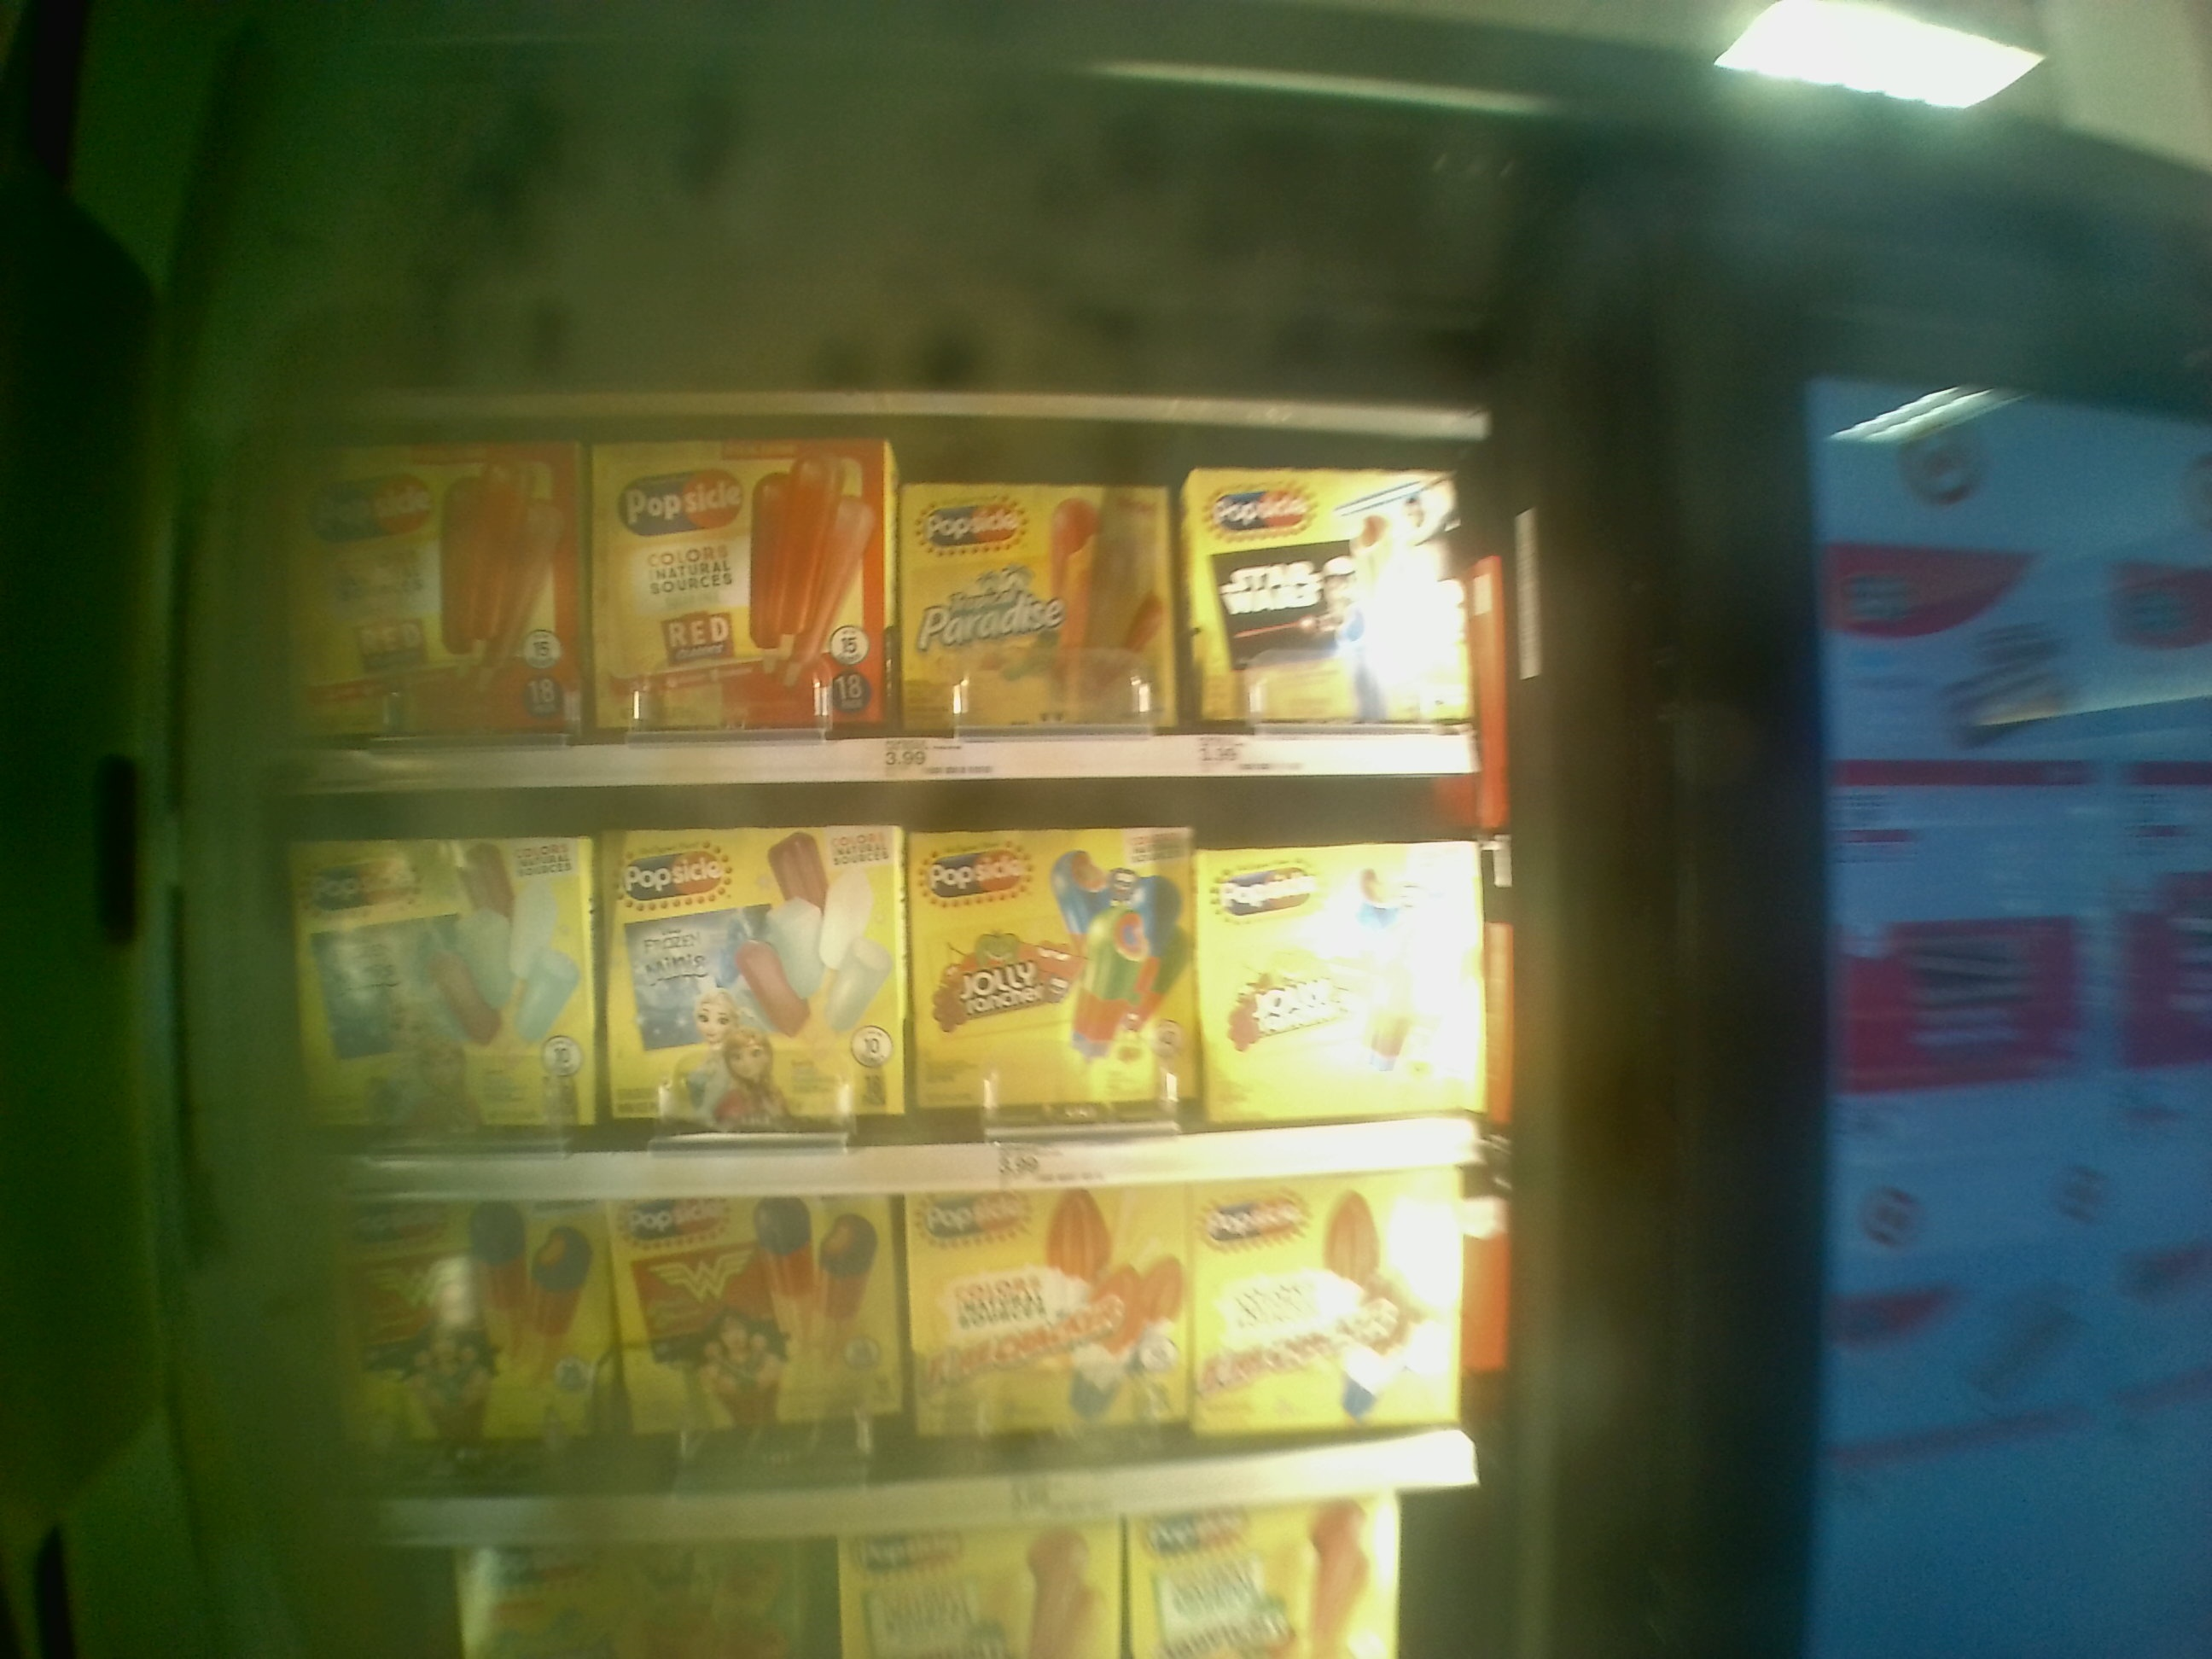shelf: (296, 772, 1503, 1180), (289, 416, 1475, 767), (329, 1182, 1507, 1514)
